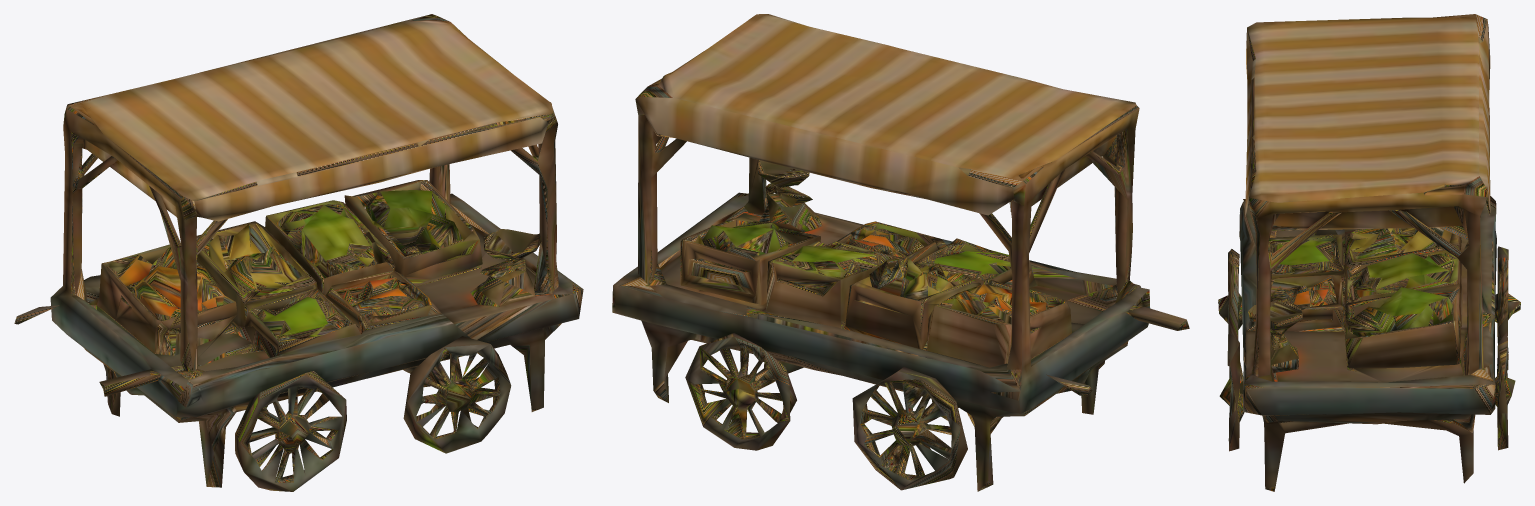
Rendered from fruitcart.glb.
3 renders of one model, left to right at view 1: azimuth 30°, elevation 25°; view 2: azimuth 150°, elevation 25°; view 3: azimuth 270°, elevation 25°, orthographic. The views are drawn at different scales.
Visible parts, largest first — view 1: tripo_node_7c5b609d; view 2: tripo_node_7c5b609d; view 3: tripo_node_7c5b609d.
Boxes of the visible parts, left/top/right/bottom form: tripo_node_7c5b609d: left=14, top=14, right=583, bottom=491; tripo_node_7c5b609d: left=612, top=14, right=1189, bottom=491; tripo_node_7c5b609d: left=1218, top=14, right=1520, bottom=491.
Size of the model in its own units: 96.95 by 64.49 by 56.82.
Materials: 1 (1 with a texture image).
